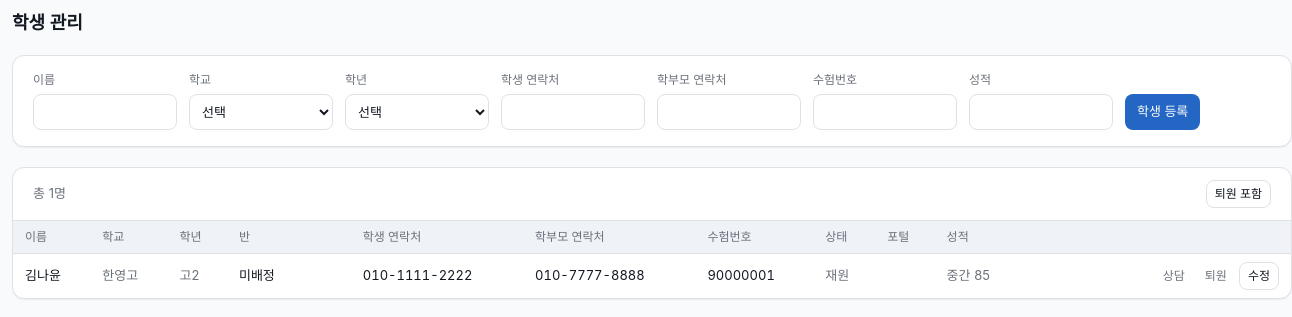
Scenario: StudentsPage › withdraws a student straight from the row after confirming
Step 1. Click the button with aria-label "김나윤 퇴원" → [1216, 276], box [1197, 262, 1235, 290]
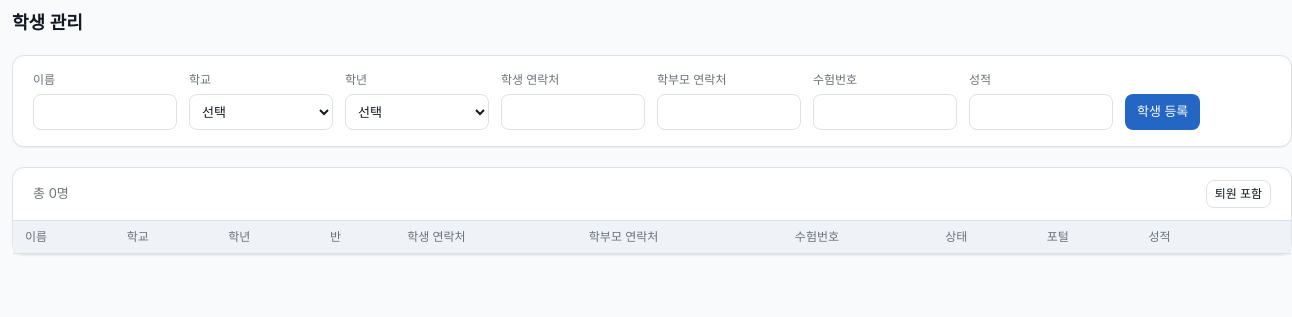
Check: the text "김나윤" is gone
